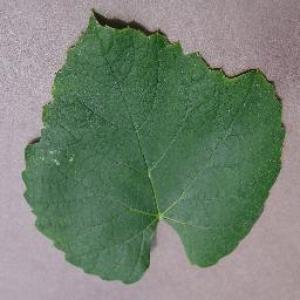Folha: (20, 7, 286, 284)
